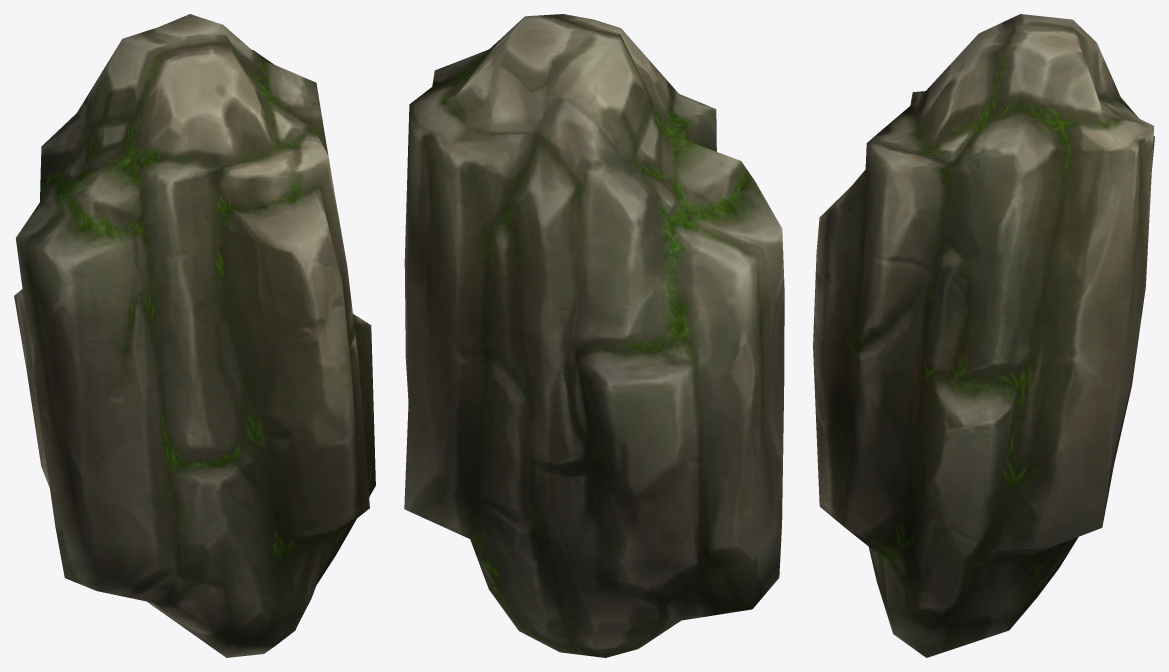
The model's file is RockFormation_4_2 (36).fbx.
3 renders of one model, left to right at view 1: azimuth 30°, elevation 25°; view 2: azimuth 150°, elevation 25°; view 3: azimuth 270°, elevation 25°, orthographic. The views are drawn at different scales.
Visible parts, largest first — view 1: RockFormation_4_2 (36); view 2: RockFormation_4_2 (36); view 3: RockFormation_4_2 (36).
Part boxes in pixels (x1=…): RockFormation_4_2 (36): x1=14, y1=14, x2=375, y2=657; RockFormation_4_2 (36): x1=404, y1=14, x2=784, y2=657; RockFormation_4_2 (36): x1=813, y1=14, x2=1154, y2=657.
Size of the model in its own units: 269 by 484 by 245.
